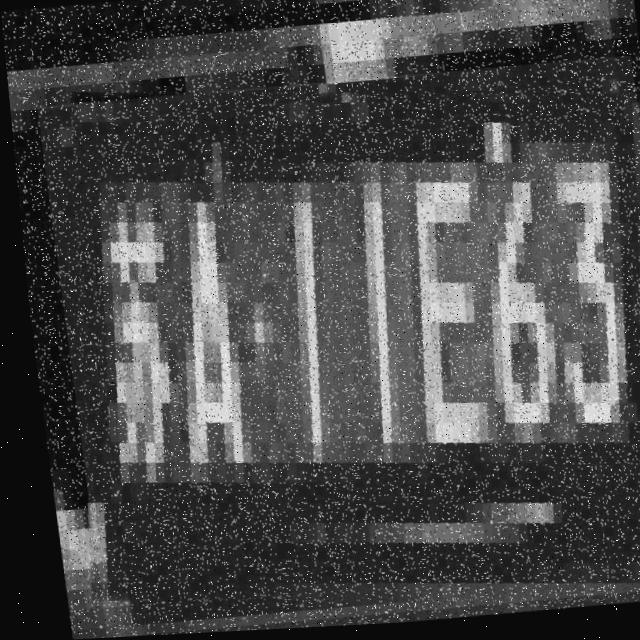LicensePlate: (33, 61, 640, 638)
